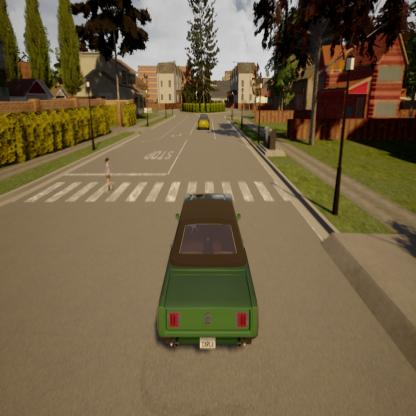Cars: (153, 189, 262, 357), (196, 111, 210, 133)
Pedestrian: (100, 153, 118, 199)
